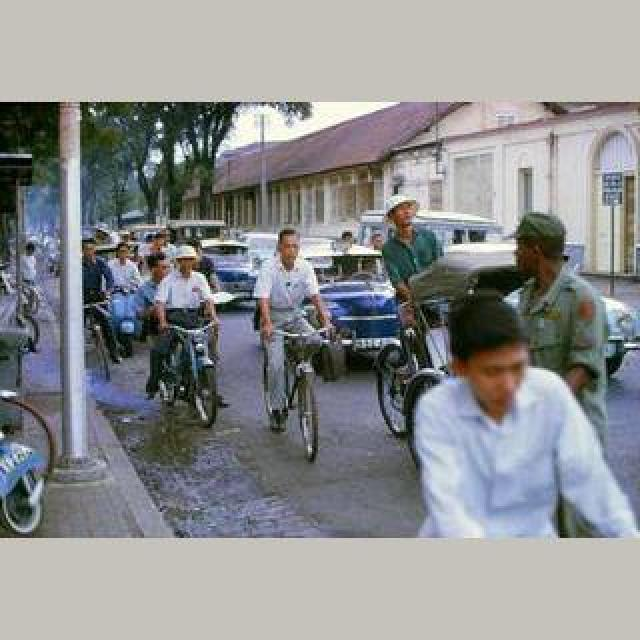Bus-Bike: (304, 240, 402, 370), (198, 240, 260, 302)
MC-Bike: (412, 288, 636, 534), (502, 212, 612, 434), (254, 226, 332, 434), (156, 246, 222, 404), (380, 196, 442, 294)
Person: (374, 300, 450, 440), (148, 312, 224, 428), (280, 332, 326, 462)
